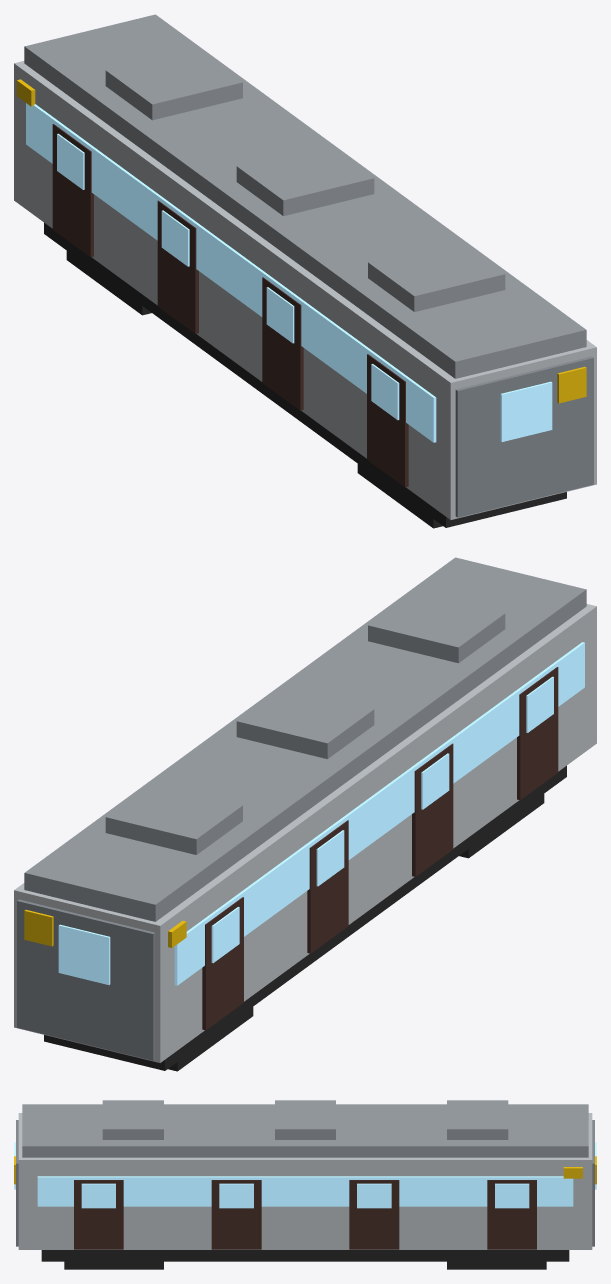
File: town_mw_train.glb
3 renders of one model, top to bottom at view 1: azimuth 30°, elevation 25°; view 2: azimuth 150°, elevation 25°; view 3: azimuth 270°, elevation 25°, orthographic. The views are drawn at different scales.
Visible parts, largest first — view 1: TownMwTrain_body; view 2: TownMwTrain_body; view 3: TownMwTrain_body.
Boxes of the visible parts, <box> form: TownMwTrain_body: <box>14,14,596,528</box>; TownMwTrain_body: <box>14,557,596,1071</box>; TownMwTrain_body: <box>14,1100,596,1269</box>.
Bounding box in the file's own units: 3.1 × 4.05 × 15.24.
